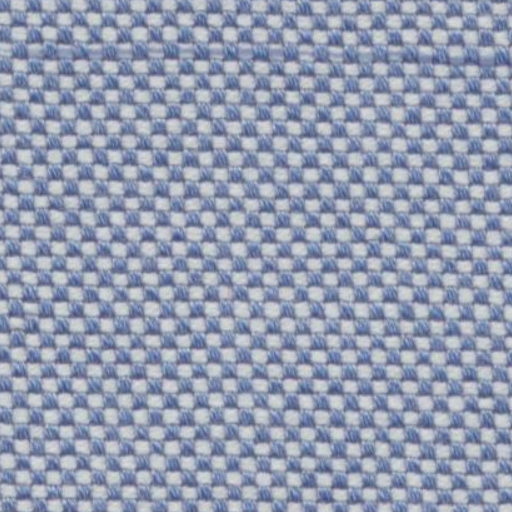TuoSha: (22, 22, 497, 96)
